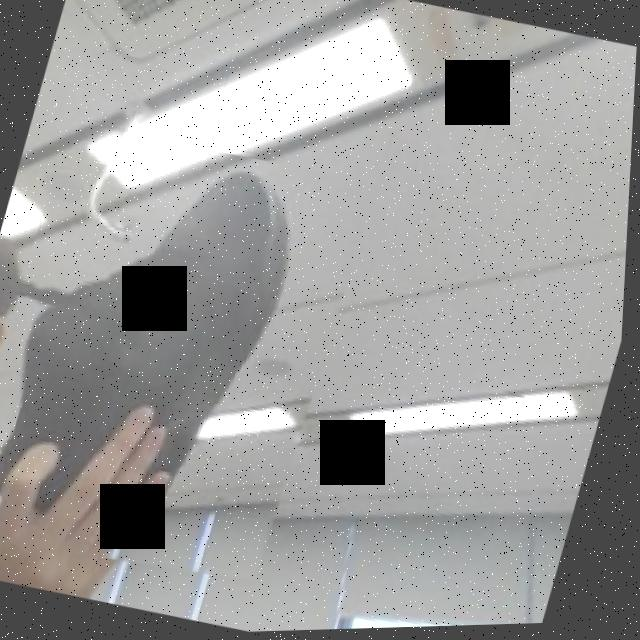shoe: (0, 113, 384, 606)
